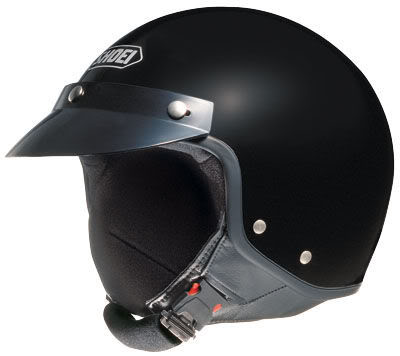helmet: (50, 1, 395, 154)
